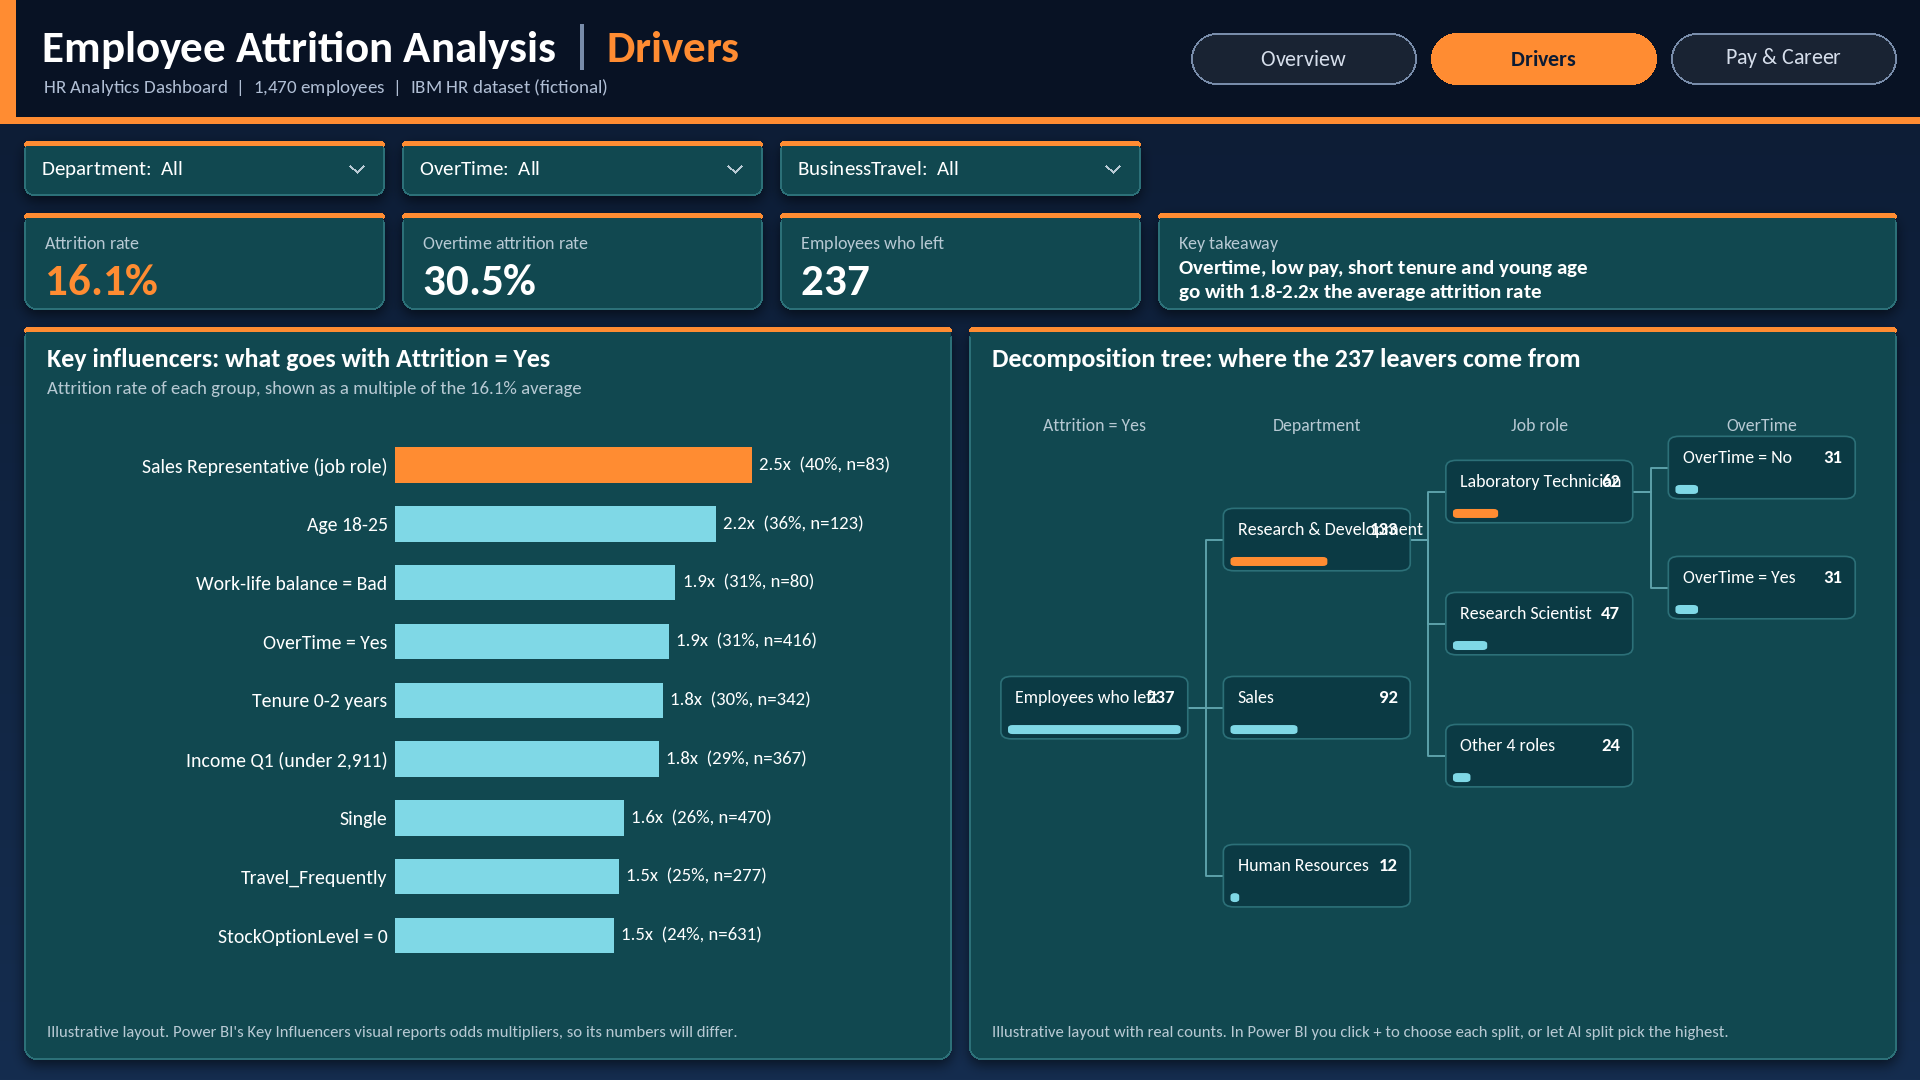

Layout of this report page (visuals, bound fields, positions):
{"tool":"powerbi","page":{"name":"Drivers","canvas":[1920,1080],"ordinal":1},"visuals":[{"type":"slicer","title":"Department","fields":{"Values":["employees.Department"]},"box":[121.2,143,266,47.1],"z":0},{"type":"slicer","fields":{"Values":["employees.BusinessTravel"]},"box":[912.1,143,228,47.1],"z":1},{"type":"slicer","fields":{"Values":["employees.OverTime"]},"box":[492.2,143,267.8,47.1],"z":2},{"type":"textbox","box":[29,153.8,108.6,23.5],"z":3},{"type":"textbox","box":[412.6,153.8,92.3,23.5],"z":4},{"type":"textbox","box":[792.6,155.6,119.4,21.7],"z":5},{"type":"cardVisual","title":"Attrition rate","fields":{"Data":["_measures.attrition_rate"]},"box":[41.6,213.5,345.6,90.5],"z":6},{"type":"cardVisual","title":"Employees who left","fields":{"Data":["_measures.attrition_count"]},"box":[792.6,215.3,347.5,90.5],"z":7},{"type":"cardVisual","title":"Overtime attrition rate","fields":{"Data":["_measures.overtime_attrition_rate"]},"box":[412.6,215.3,347.5,90.5],"z":8},{"type":"textbox","box":[1161.8,213.5,731.1,101.3],"z":9},{"type":"keyDriversVisual","title":"Key influencers: what goes with Attrition = Yes","fields":{"ExplainBy":["employees.JobRole","employees.age_band","employees.OverTime","employees.tenure_band","employees.income_band"],"Target":["employees.Attrition"]},"box":[25.8,329.4,930.2,727.5],"z":10},{"type":"decompositionTreeVisual","title":"Decomposition tree: where the 237 leavers come from","fields":{"Analyze":["_measures.attrition_count"],"ExplainBy":["employees.Department","employees.JobRole","employees.OverTime"]},"box":[966.4,329.4,926.5,727.5],"z":11},{"type":"pageNavigator","box":[1187.1,25.8,708.6,57.1],"z":12}]}

Visuals, with their boxes in screenshot pixels (x1, y1, x2, y2), scaled from the page's 1920x1080 canvas onto the 1920x1080 screenshot:
"Department" slicer: box=[121, 143, 387, 190]
slicer - employees.BusinessTravel: box=[912, 143, 1140, 190]
slicer - employees.OverTime: box=[492, 143, 760, 190]
textbox: box=[29, 154, 138, 177]
textbox: box=[413, 154, 505, 177]
textbox: box=[793, 156, 912, 177]
"Attrition rate" cardVisual: box=[42, 214, 387, 304]
"Employees who left" cardVisual: box=[793, 215, 1140, 306]
"Overtime attrition rate" cardVisual: box=[413, 215, 760, 306]
textbox: box=[1162, 214, 1893, 315]
"Key influencers: what goes with Attrition = Yes" keyDriversVisual: box=[26, 329, 956, 1057]
"Decomposition tree: where the 237 leavers come from" decompositionTreeVisual: box=[966, 329, 1893, 1057]
pageNavigator: box=[1187, 26, 1896, 83]
